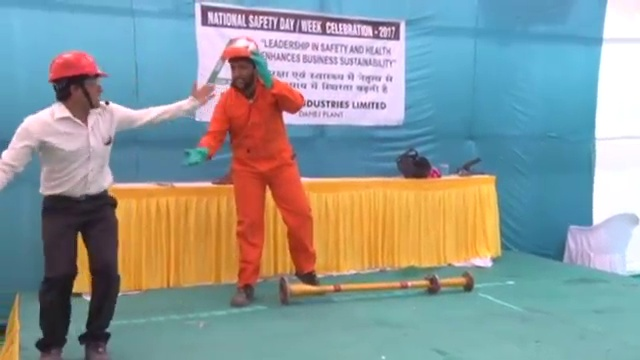helmet: (43, 48, 109, 81), (221, 34, 260, 60)
helmet_on: (40, 48, 111, 114), (219, 34, 262, 95)
person: (1, 48, 201, 359), (200, 34, 324, 297)
